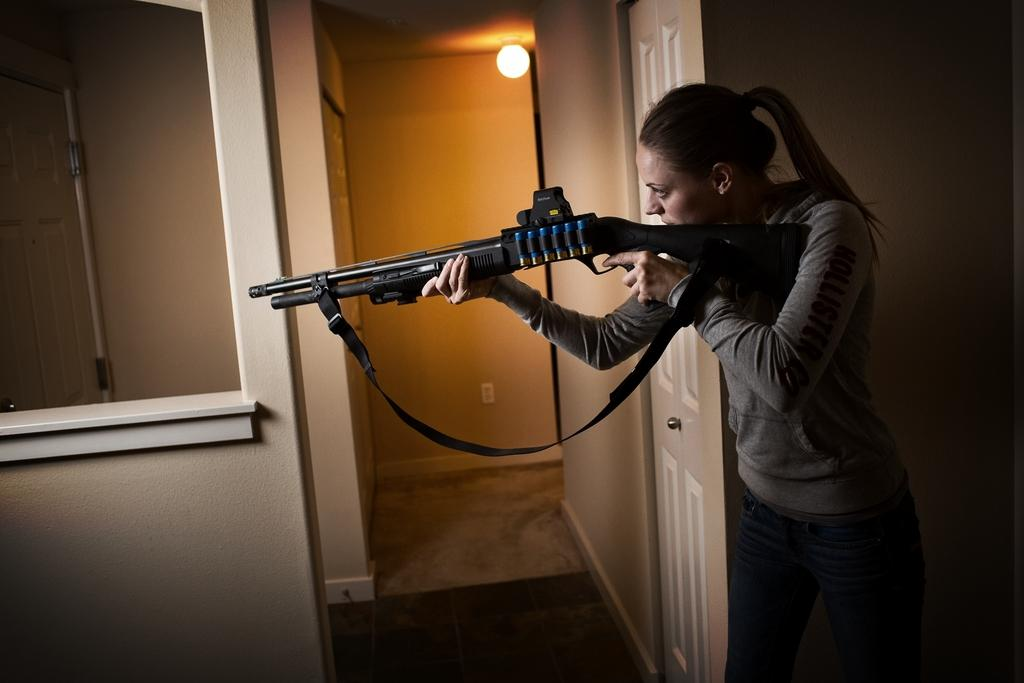Rifle: (225, 176, 764, 363)
